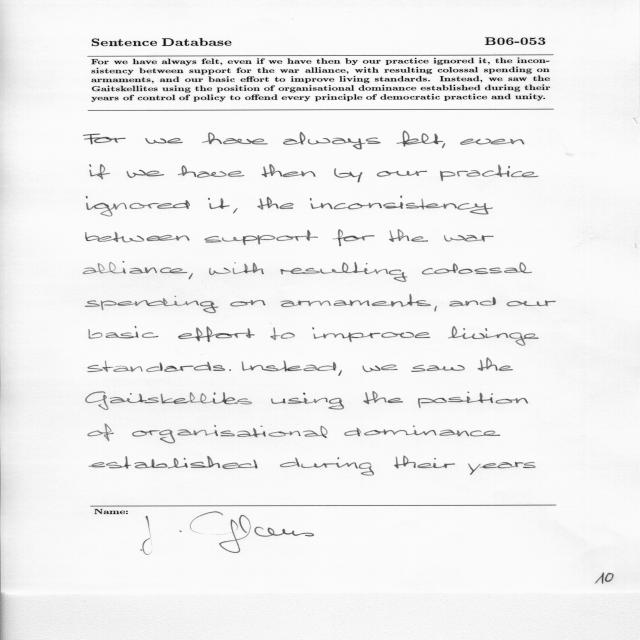word: (132, 425, 328, 443), (310, 196, 493, 215), (86, 391, 252, 410), (280, 262, 408, 282), (86, 296, 219, 313), (89, 456, 257, 469), (86, 196, 190, 216), (83, 261, 193, 279), (280, 294, 431, 307), (418, 392, 528, 409), (448, 326, 539, 346), (280, 457, 374, 476), (312, 327, 430, 342), (344, 426, 500, 437), (205, 230, 318, 245), (283, 132, 381, 149), (242, 360, 342, 376), (440, 165, 538, 181), (88, 361, 225, 372), (422, 262, 532, 275), (271, 393, 344, 410), (178, 326, 255, 342), (86, 232, 190, 243), (89, 326, 158, 339), (468, 462, 536, 475), (202, 132, 268, 145), (178, 165, 244, 178), (394, 456, 455, 469), (397, 131, 443, 147), (333, 230, 375, 247), (262, 165, 316, 178), (363, 391, 403, 404), (389, 229, 428, 242), (478, 357, 513, 371), (449, 297, 496, 307), (258, 197, 294, 210), (84, 134, 126, 145), (88, 424, 114, 441), (334, 168, 363, 183), (460, 139, 524, 145), (411, 365, 465, 372), (233, 262, 264, 274), (270, 327, 295, 340), (90, 165, 111, 180), (377, 171, 427, 177), (444, 235, 494, 241), (127, 170, 164, 178), (507, 301, 556, 307), (208, 198, 230, 209), (145, 138, 183, 144), (231, 300, 266, 306), (209, 268, 230, 275), (363, 366, 381, 373), (381, 365, 397, 371), (233, 208, 238, 213), (434, 306, 437, 312), (442, 143, 445, 148), (229, 369, 231, 371)
